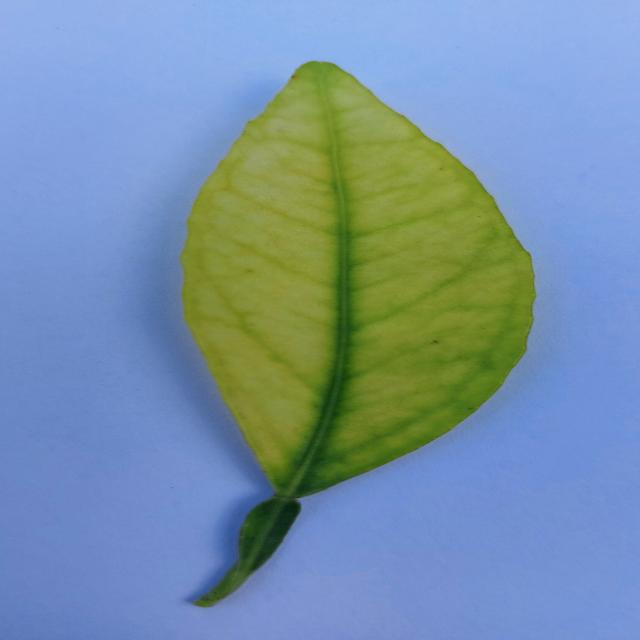greening: (183, 63, 534, 497)
